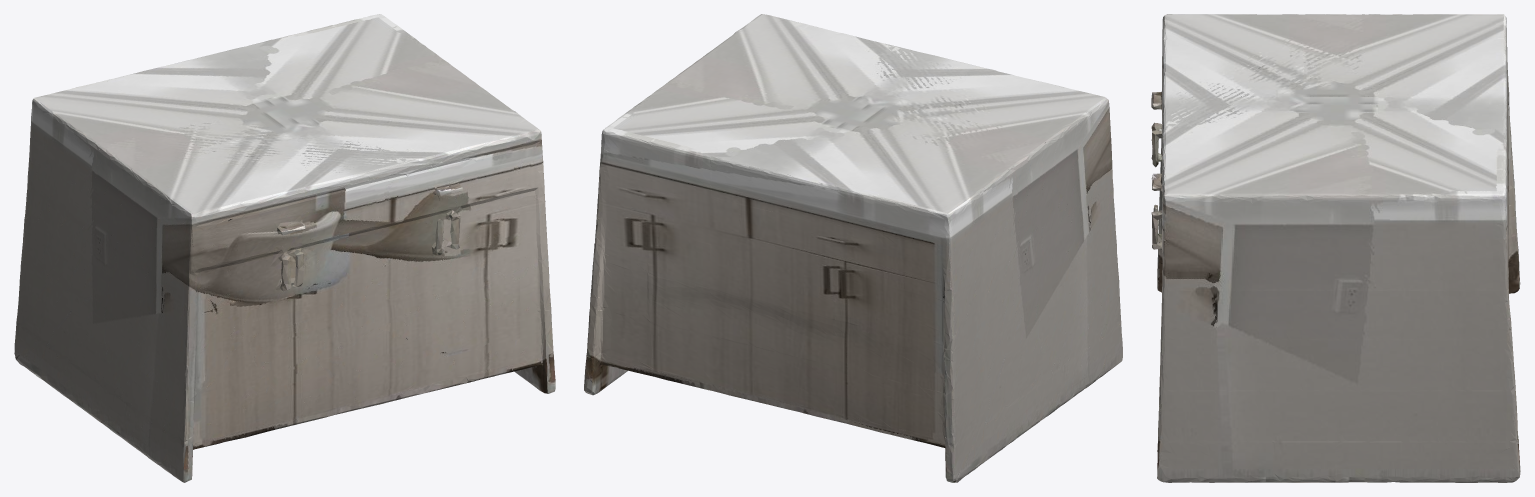
The model's file is living-01-dresser.glb.
3 views of the same model, side by side, from view 1: azimuth 30°, elevation 25°; view 2: azimuth 150°, elevation 25°; view 3: azimuth 270°, elevation 25° (orthographic). The views are drawn at different scales.
Parts seen in each view (by area): view 1: geometry_0; view 2: geometry_0; view 3: geometry_0.
Part boxes in pixels (box(x1,y1,x2,y2)): geometry_0: box(14, 14, 555, 482); geometry_0: box(584, 14, 1122, 482); geometry_0: box(1151, 14, 1520, 482).
Bounding box in the file's own units: 1.23 × 0.8391 × 0.9886.
1 material, 1 textured.
